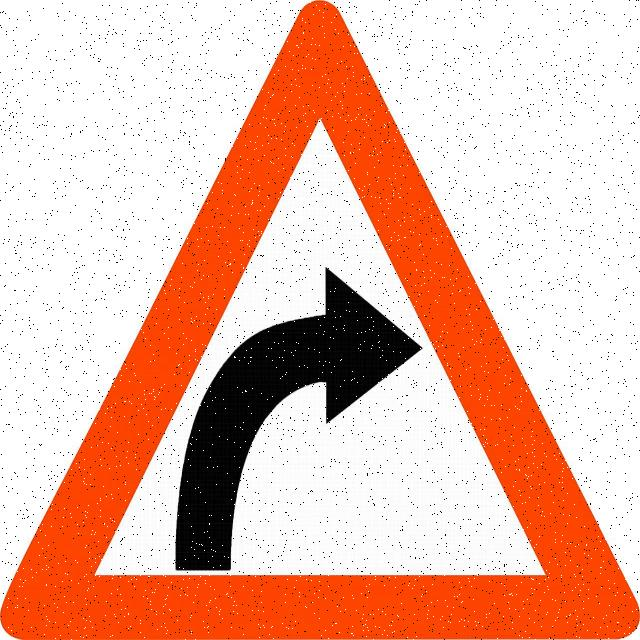Righthand_curve: (1, 0, 631, 633)
